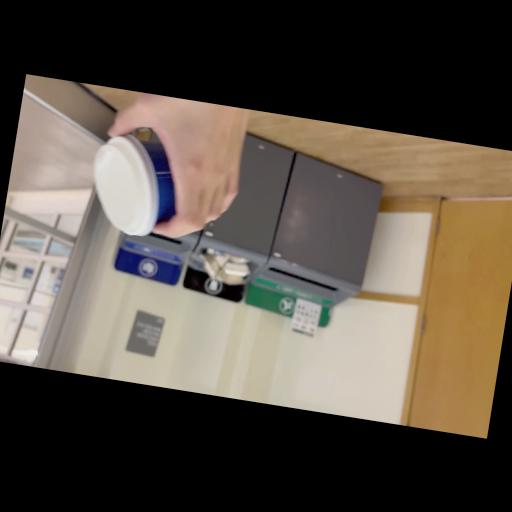lp_paper_cup: (82, 130, 188, 242)
